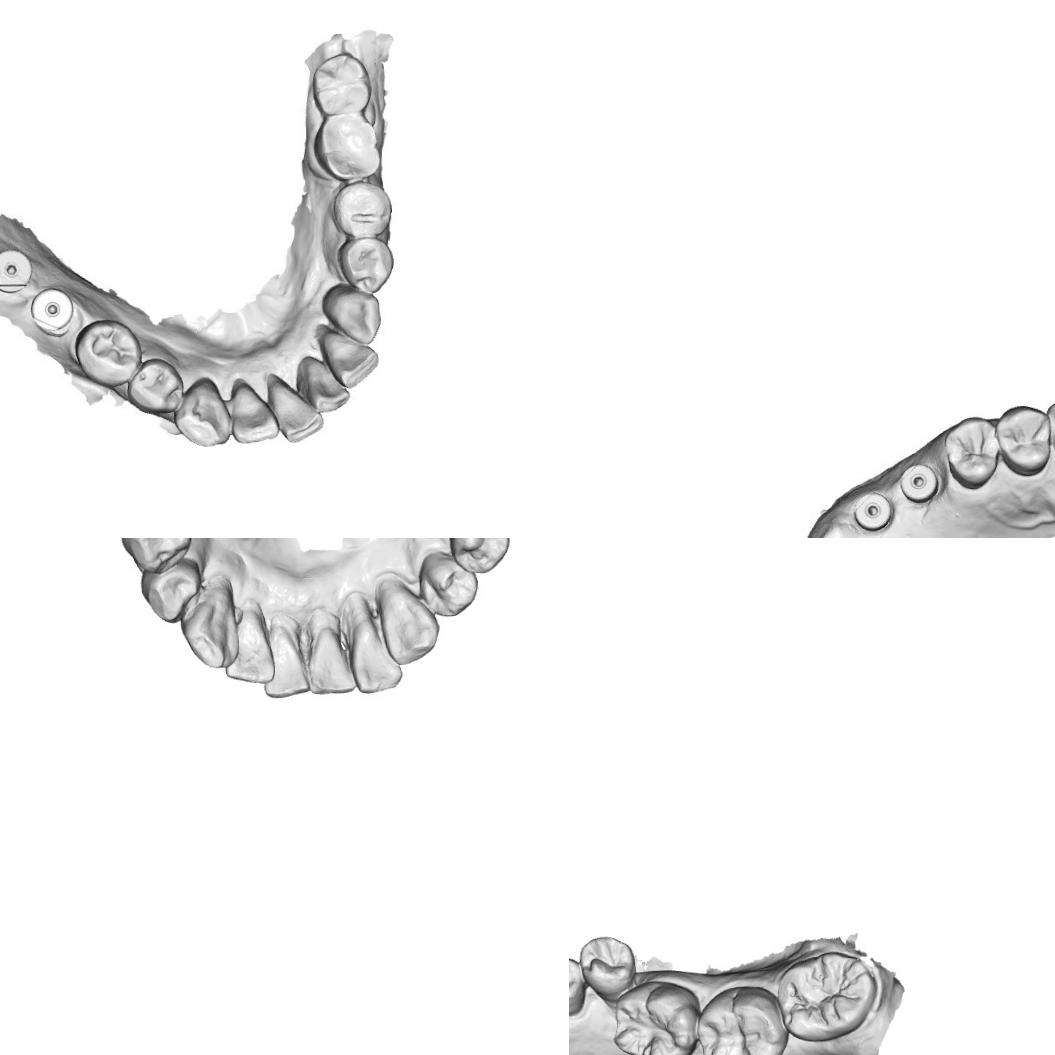canine: (178, 579, 239, 672), (378, 584, 442, 665), (175, 376, 230, 450), (322, 284, 382, 344)
implant: (25, 284, 77, 337), (897, 458, 946, 508), (850, 485, 897, 536), (0, 246, 36, 299)
incisor: (349, 598, 404, 693), (304, 616, 358, 697), (222, 608, 276, 688), (260, 620, 313, 699), (266, 372, 324, 442), (319, 326, 378, 390), (228, 376, 278, 446), (302, 360, 348, 416)
molar: (774, 948, 879, 1044), (611, 980, 701, 1055), (692, 983, 785, 1055), (320, 110, 382, 179), (314, 54, 373, 115)
premolar: (941, 414, 1002, 494), (994, 402, 1055, 477), (138, 557, 202, 625), (415, 550, 478, 618), (75, 321, 138, 386), (126, 353, 184, 417), (577, 933, 636, 994), (340, 240, 400, 296), (336, 180, 392, 240), (119, 538, 194, 573), (445, 538, 509, 575), (569, 950, 590, 1017)
